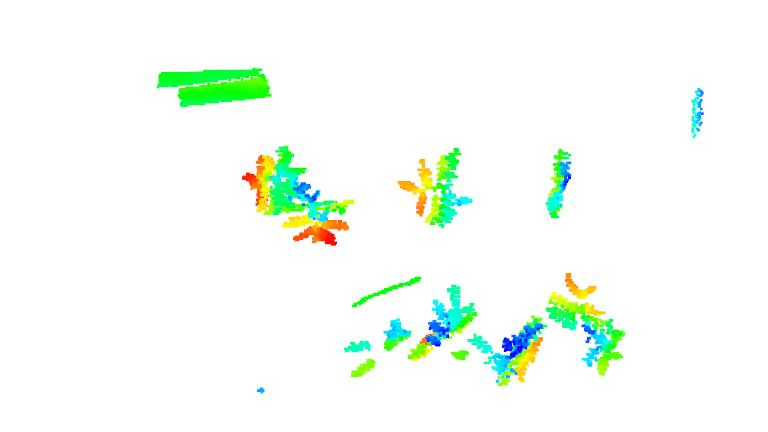chickpea: (232, 142, 352, 252), (544, 274, 626, 379), (391, 147, 471, 230), (472, 310, 547, 390), (415, 285, 477, 368), (336, 316, 413, 377), (539, 141, 578, 220)
